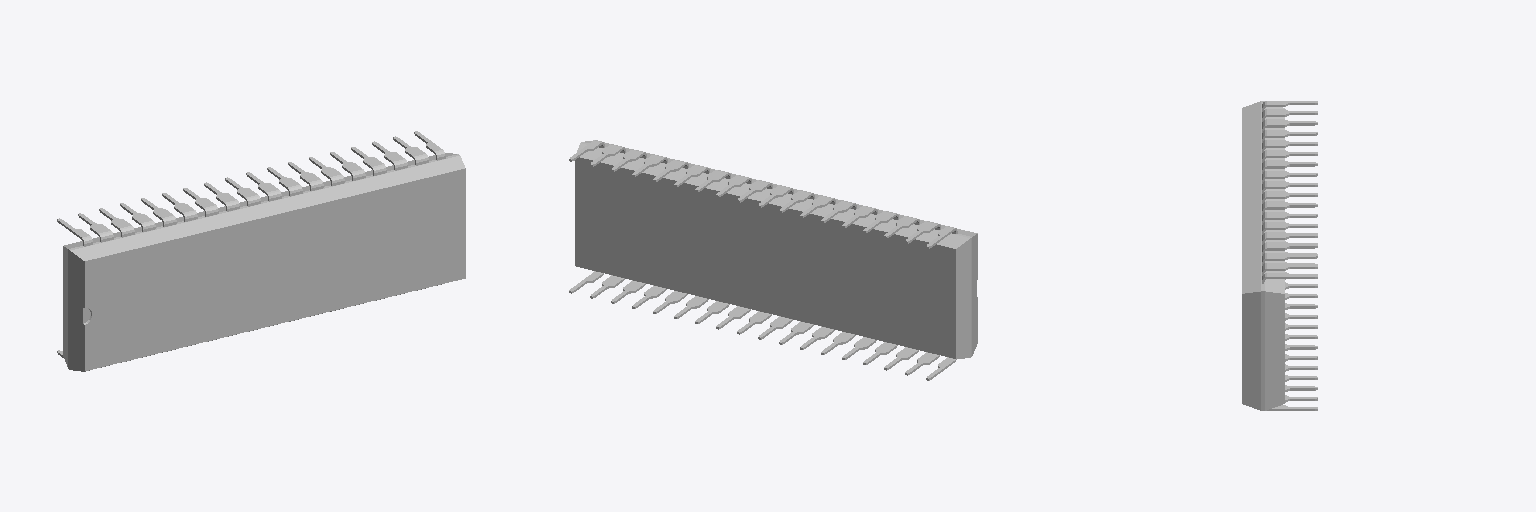
File: DIP-36P-M01.obj
The picture shows the model from 3 angles: view 1: azimuth 30°, elevation 25°; view 2: azimuth 150°, elevation 25°; view 3: azimuth 270°, elevation 25°; orthographic projection.
Visible parts, largest first — view 1: Solid1; view 2: Solid1; view 3: Solid1.
Boxes of the visible parts, x1=… form: Solid1: x1=57, y1=131, x2=465, y2=371; Solid1: x1=569, y1=140, x2=977, y2=380; Solid1: x1=1242, y1=101, x2=1317, y2=410.
Bounding box in the file's own units: 47.2 × 15.49 × 8.